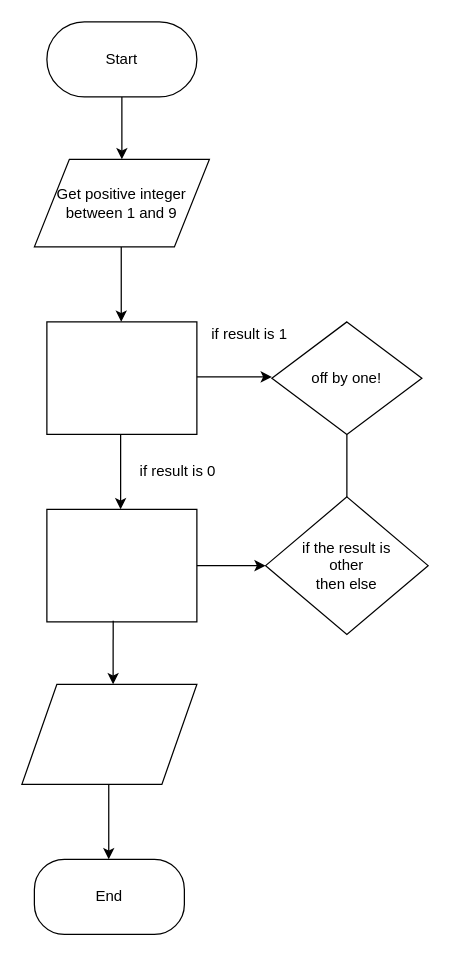
Image size: 450x956. Some labels were removed from this diagram. Here are the shapes that lost their labels. From the top down, the centre of each, then its label:
At (121,377): "Calculate the student number".
At (121,565): "display the new number times 3".
At (109,733): "Valid program run, goodbye!".
